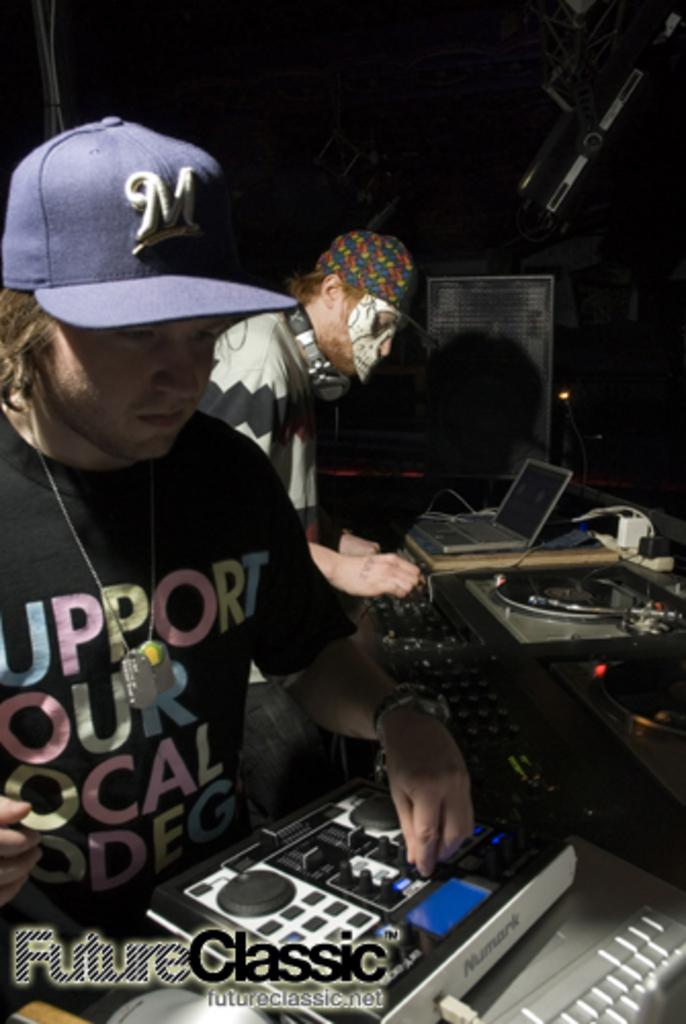Hat: (0, 112, 303, 327)
